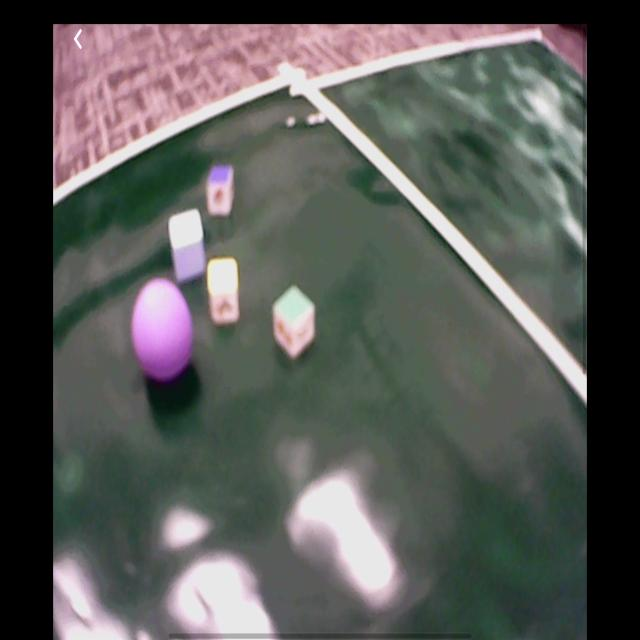ball: (132, 279, 195, 385)
